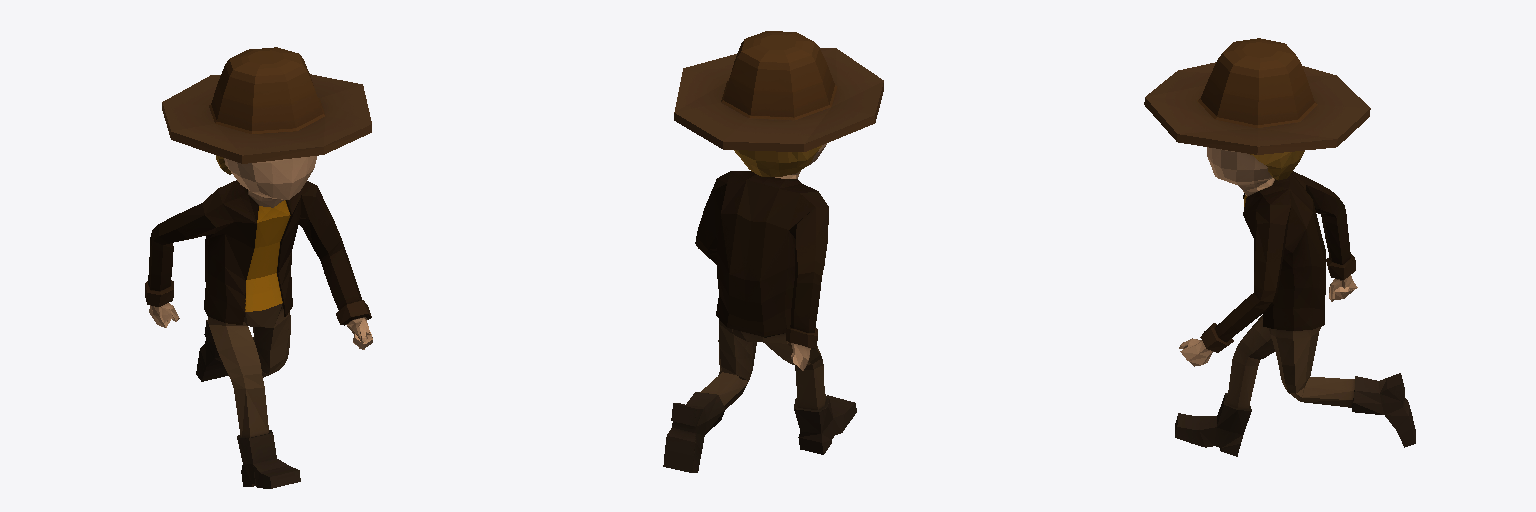
The picture shows the model from 3 angles: view 1: azimuth 30°, elevation 25°; view 2: azimuth 150°, elevation 25°; view 3: azimuth 270°, elevation 25°; orthographic projection.
Visible parts, largest first — view 1: Character_Cube.006; view 2: Character_Cube.006; view 3: Character_Cube.006.
Part boxes in pixels (bbox=[...]): Character_Cube.006: bbox=[145, 47, 372, 488]; Character_Cube.006: bbox=[663, 31, 883, 472]; Character_Cube.006: bbox=[1144, 38, 1415, 456].
Bounding box in the file's own units: 7.15 × 14.67 × 8.74.
1 materials, 1 textured.